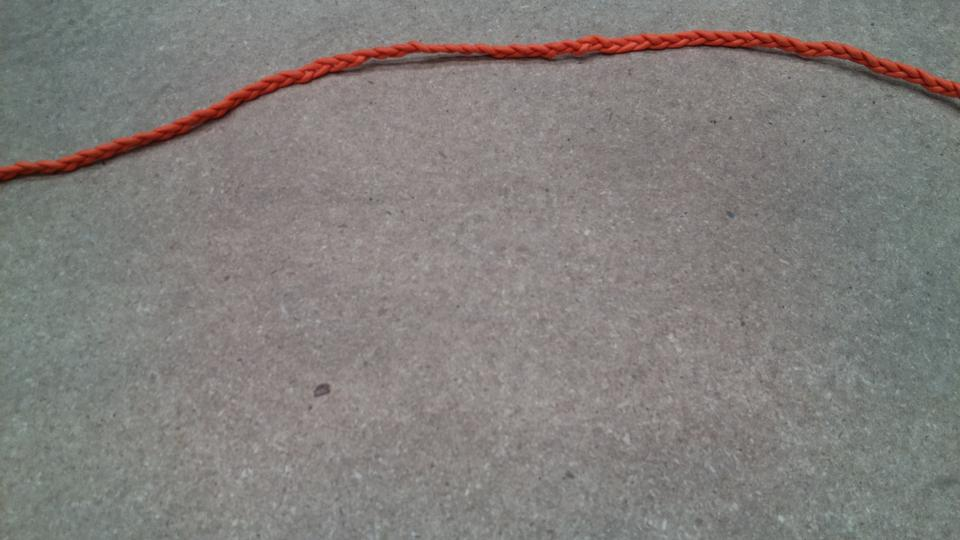rope: (1, 26, 960, 191)
